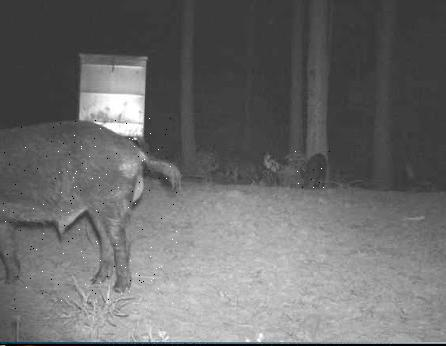Hog: (0, 118, 177, 309), (293, 151, 332, 193)
